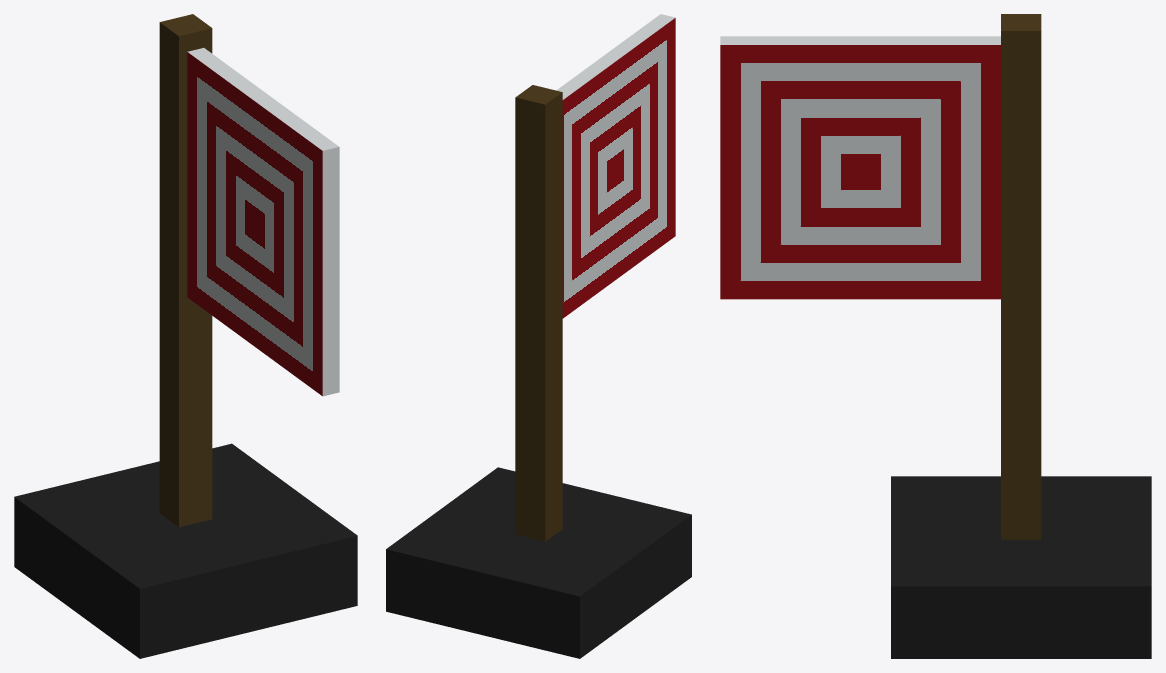
Rendered from minigames_flag.obj.
3 views of the same model, side by side, from view 1: azimuth 30°, elevation 25°; view 2: azimuth 150°, elevation 25°; view 3: azimuth 270°, elevation 25° (orthographic). The views are drawn at different scales.
Parts seen in each view (by area): view 1: base, sheet, shaft; view 2: base, sheet, shaft; view 3: sheet, base, shaft.
Boxes of the visible parts, box(x1,y1,x2,y2) form: base: box(14, 443, 357, 658); sheet: box(187, 48, 339, 396); shaft: box(159, 14, 212, 527); base: box(386, 467, 691, 658); sheet: box(556, 14, 675, 318); shaft: box(515, 85, 562, 541); sheet: box(720, 36, 1000, 299); base: box(891, 476, 1151, 658); shaft: box(1001, 14, 1041, 539).
Bounding box in the file's own units: 0.8125 × 2 × 1.34.
